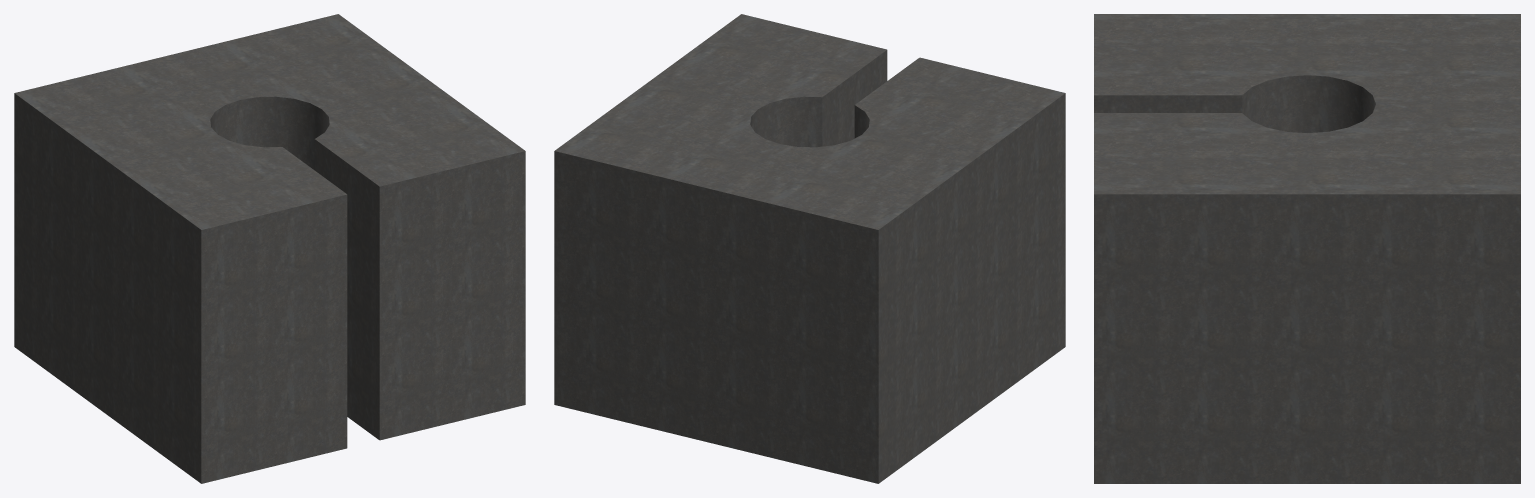
Rendered from level01_3Ground.fbx.
3 renders of one model, left to right at view 1: azimuth 30°, elevation 25°; view 2: azimuth 150°, elevation 25°; view 3: azimuth 270°, elevation 25°, orthographic. The views are drawn at different scales.
Visible parts, largest first — view 1: Box049; view 2: Box049; view 3: Box049.
Boxes of the visible parts, bbox=[...] form: Box049: bbox=[14, 14, 525, 483]; Box049: bbox=[554, 14, 1065, 483]; Box049: bbox=[1094, 14, 1520, 483].
Bounding box in the file's own units: 2000 × 1497 × 2000.
